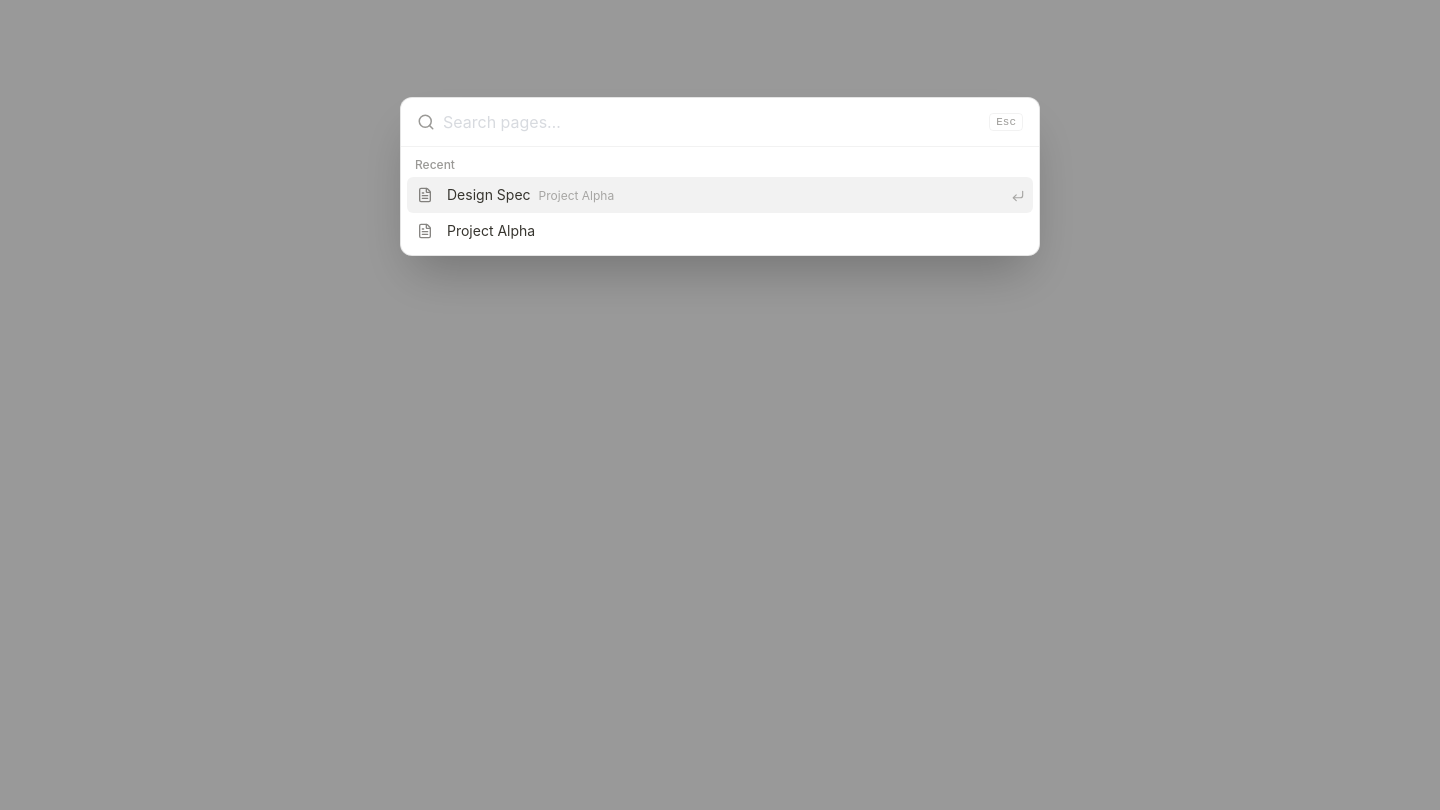
Test: SearchModal › finds pages by title and content and opens the chosen one
Later steps or results of the test are not shown.
Type "login" into the field with placeholder "Search pages…".
click(712, 122); type("login")  # box left=443, top=98, right=981, bottom=146
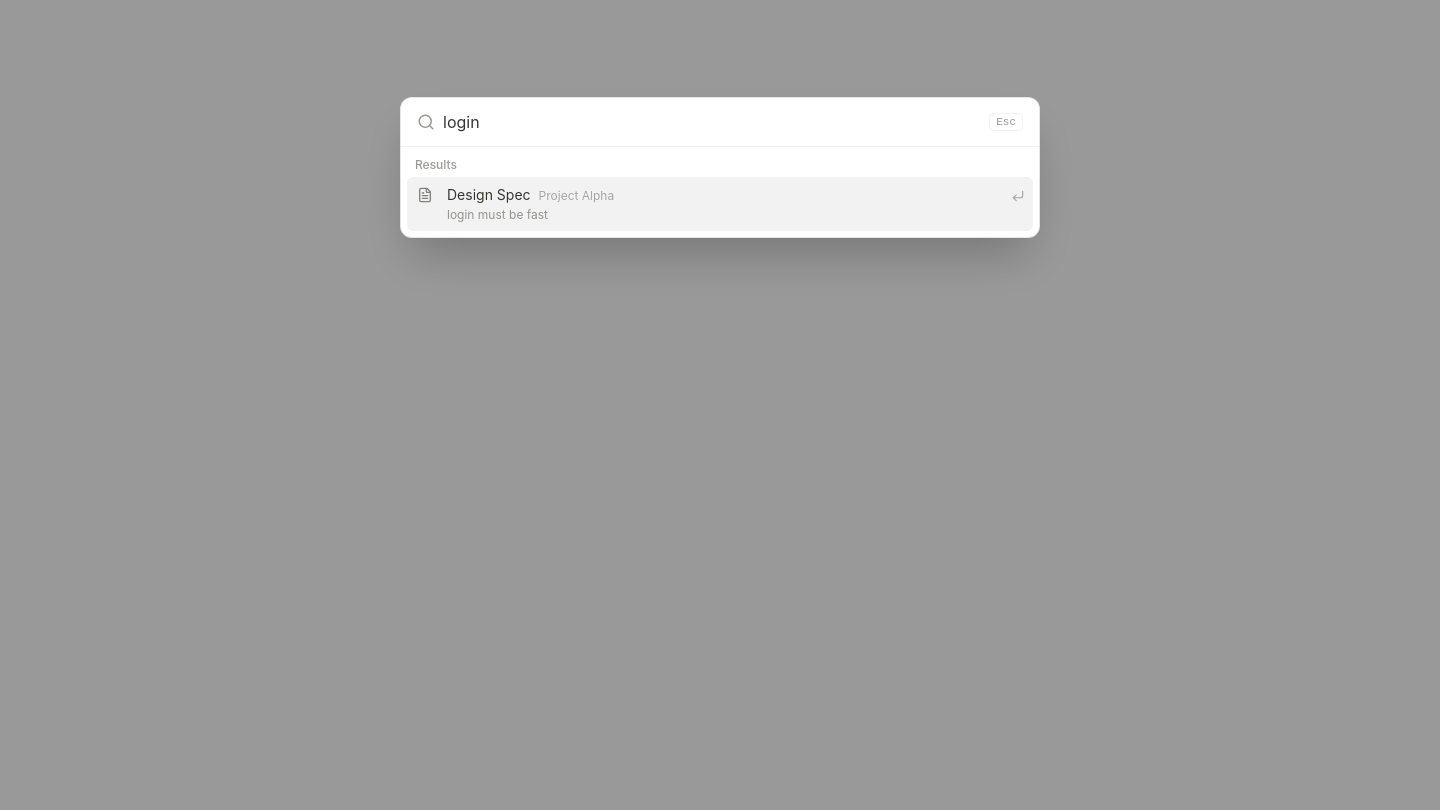
Expected: the text "login must be fast" is shown, left=447, top=207, right=548, bottom=222
